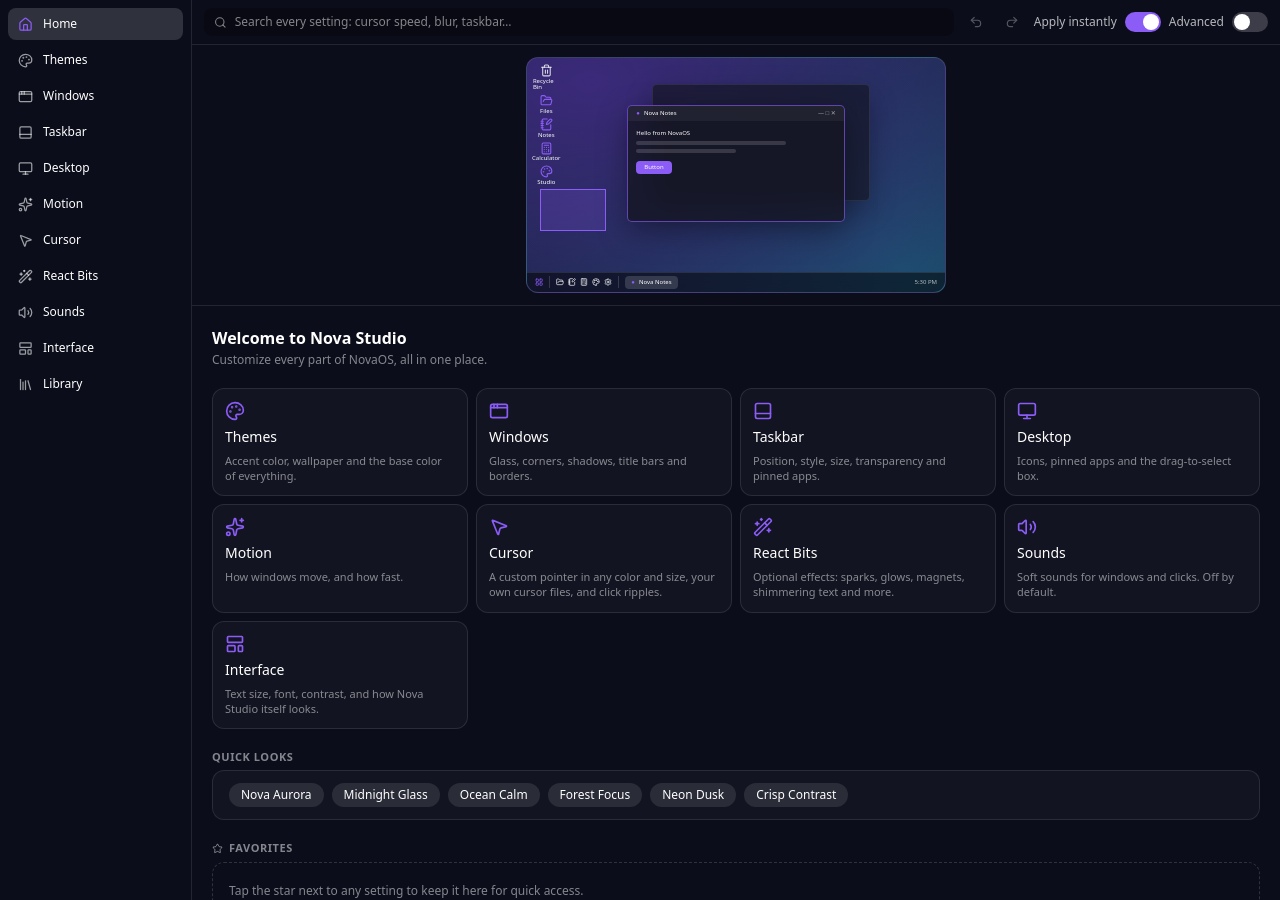
Test: the React Bits studio › has a glass pill for every effect, and they all start off
Step 1. Click the button "React Bits" → (96, 276), box [8, 260, 183, 292]
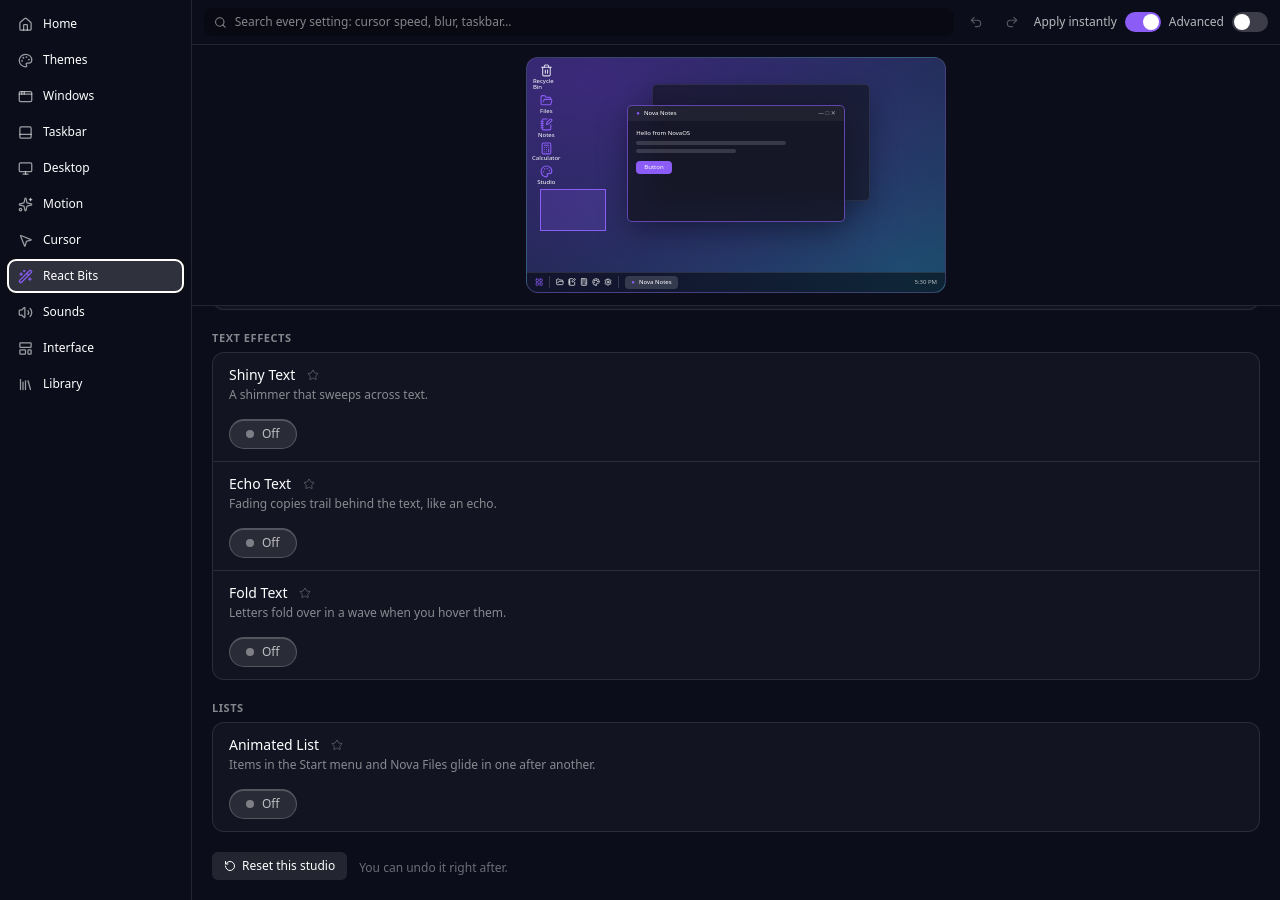
Now the switch named "Shiny Text" reads "Off", box [229, 419, 297, 449]
Now the switch named "Echo Text" reads "Off", box [229, 528, 297, 558]
Now the switch named "Fold Text" reads "Off", box [229, 637, 297, 667]
